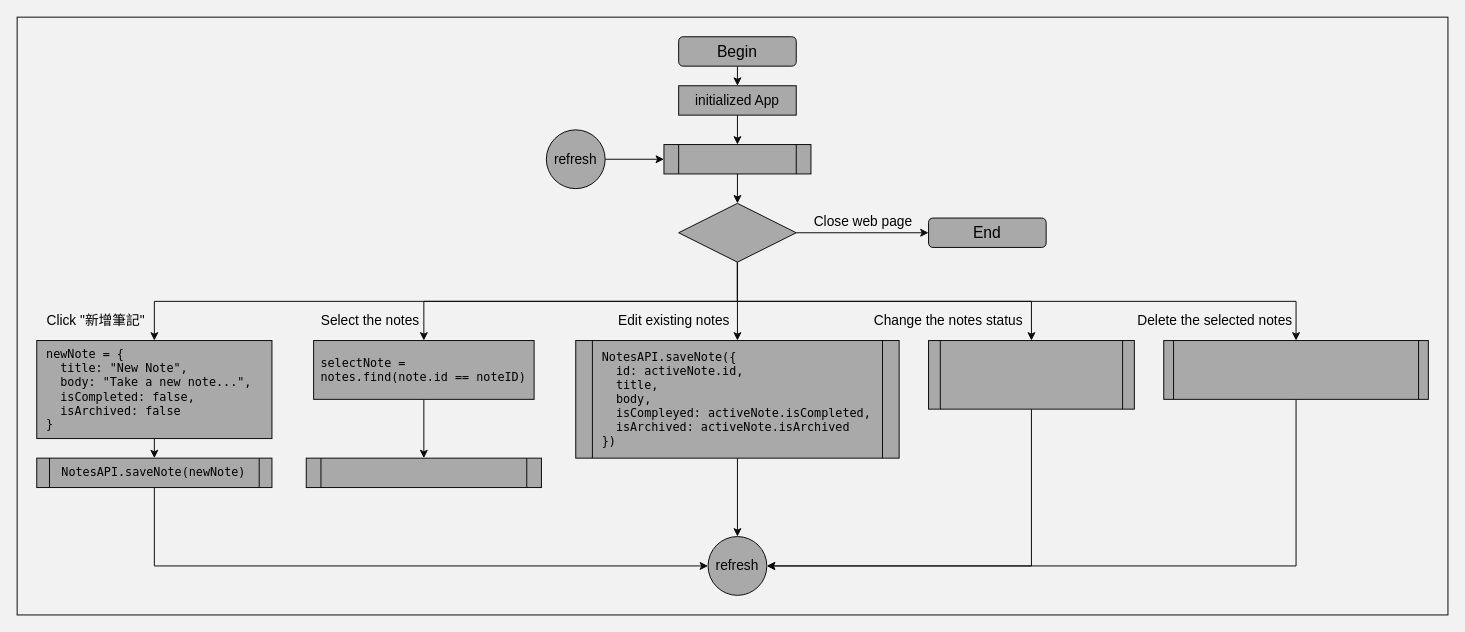
Some shapes in this 1465 by 632 pixel diagram are drawn without their labels. The centre of each missing label's shape, as x and y in pixels:
_refreshNotes(): [737,159]
_setActiveNote(selectNote): [423,472]
NotesAPI.deleteNote(activeNote): [1295,369]
NotesAPI.setNoteStatus( activeNote, status ): [1031,374]
user event: [737,232]
